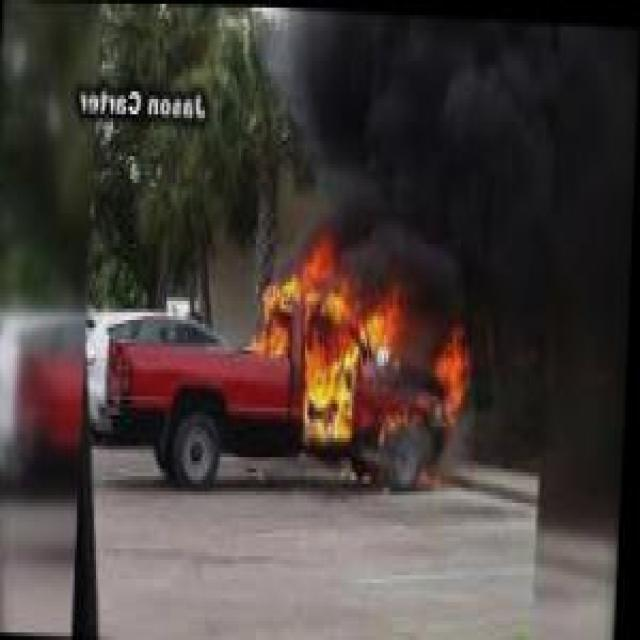Fire: (247, 247, 495, 483)
Smoke: (268, 8, 554, 236)
